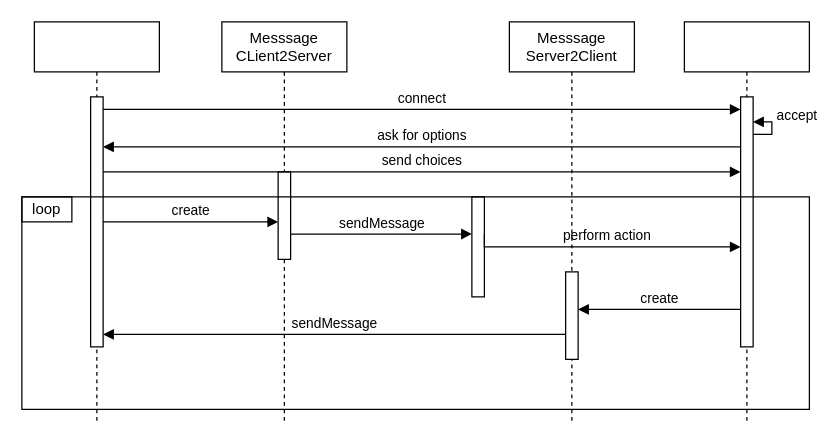
The diagram is 839 pixels wide and 444 high, and some of its shapes have lost their labels. Each missing label, with the box of its shape:
Client: (33, 21, 159, 422)
Server: (683, 21, 809, 422)
